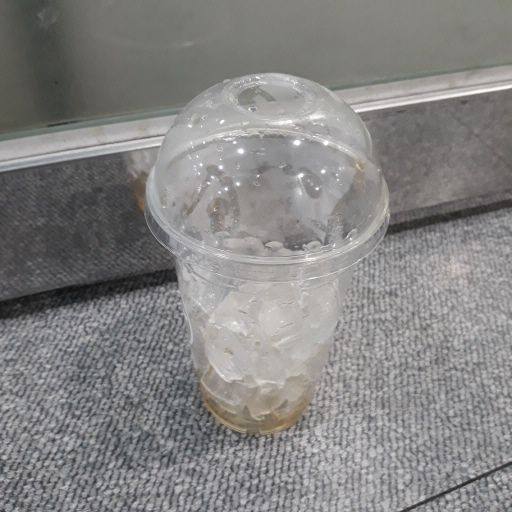Plastic_2: (145, 71, 392, 433)
